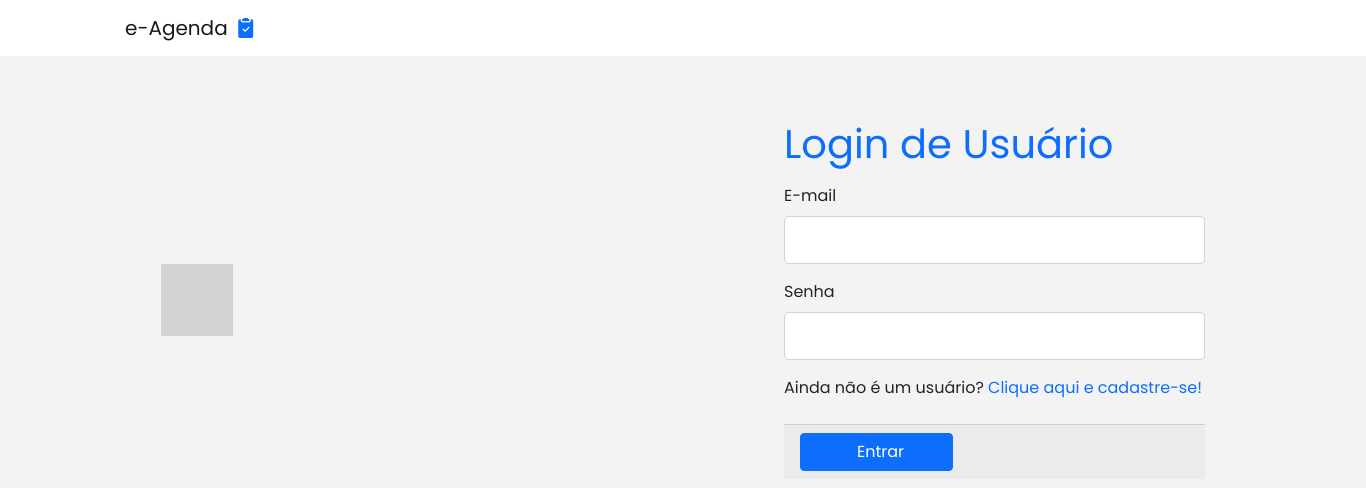
Test: Processo de Login do Usuário › Deve validar email em formato inválido
In the field with test id "email": (995, 240) [784,216,1205,264], type "teste"
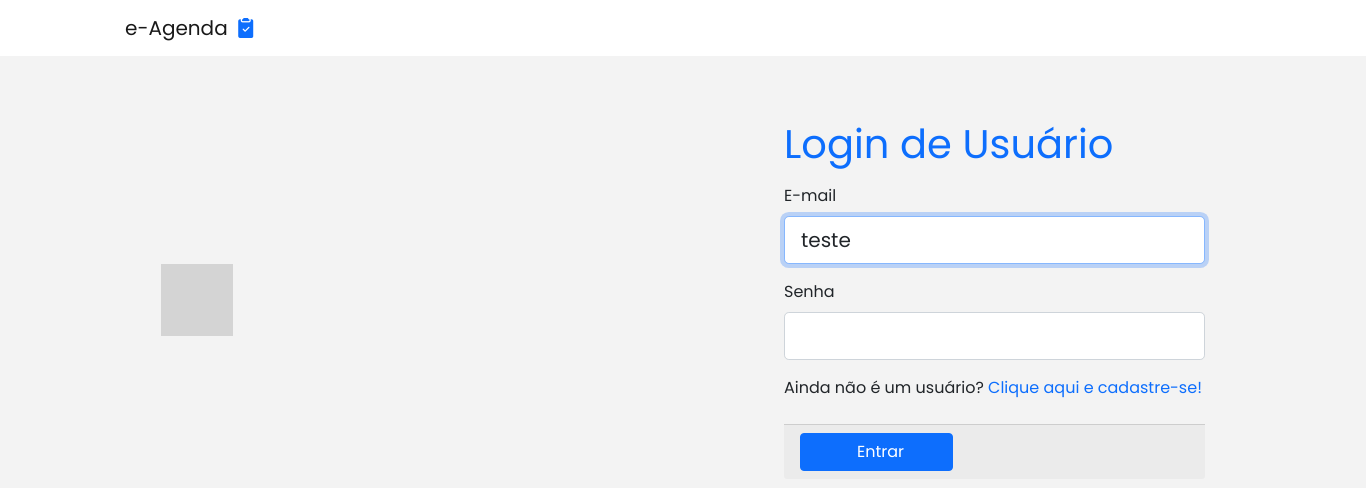
Focus the password field with test id "senha": (995, 336) [784,312,1205,360]
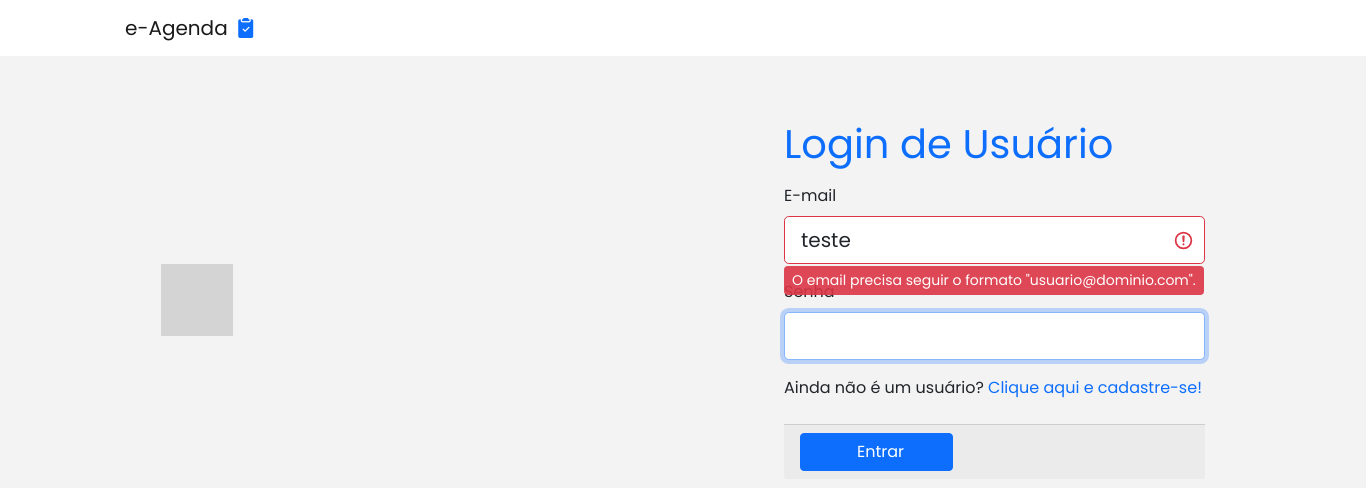
expect the text "O email precisa seguir o formato \"usuario@dominio.com\"." is shown: met, box [792,270,1196,290]
